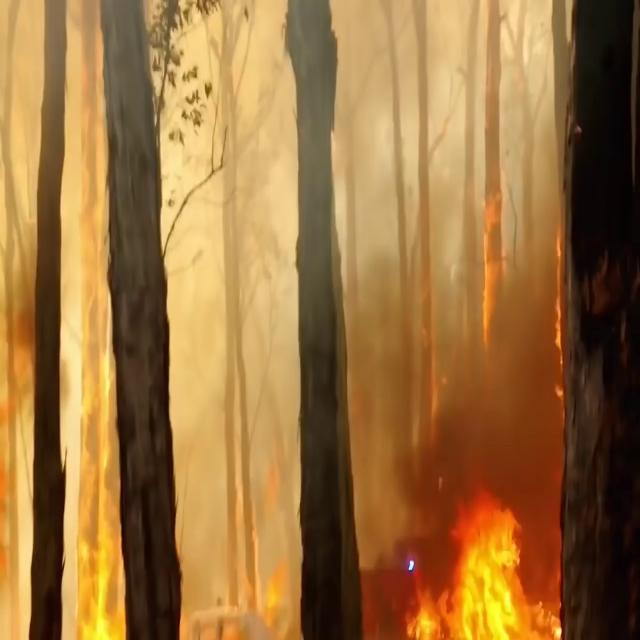Fire: (395, 494, 559, 640)
Smoke: (32, 1, 574, 529)
